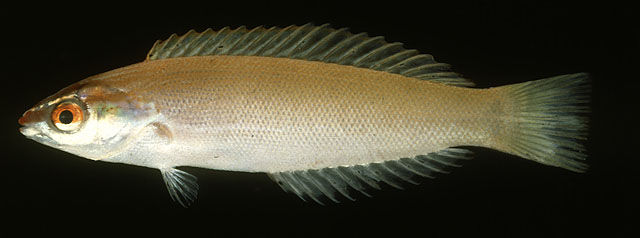fish: (18, 23, 592, 207)
